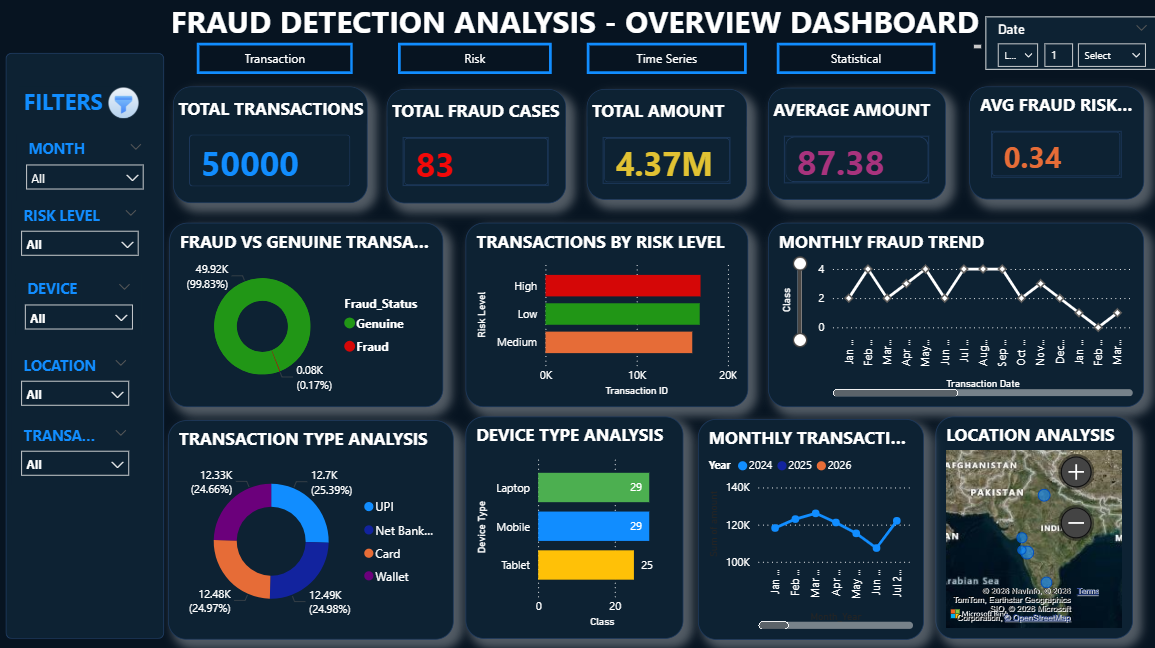

The dashboard page shown, as its layout file describes it:
{"tool":"powerbi","page":{"name":"Page 1","canvas":[1280,720],"ordinal":0},"visuals":[{"type":"cardVisual","title":"TOTAL TRANSACTIONS","fields":{"Data":["enriched_data.Total Transactions"]},"box":[197.9,101.3,213.5,127.9],"z":0},{"type":"cardVisual","title":"TOTAL FRAUD CASES","fields":{"Data":["enriched_data.Fraud Test"]},"box":[431.9,103.8,196.6,125.5],"z":1000},{"type":"cardVisual","title":"TOTAL AMOUNT","fields":{"Data":["enriched_data.Total Amount"]},"box":[651.5,103.8,176.1,121.9],"z":2000},{"type":"cardVisual","title":"AVERAGE AMOUNT","fields":{"Data":["Avg(enriched_data.amount)"]},"box":[850.5,102.5,195.4,123.1],"z":3000},{"type":"donutChart","title":"FRAUD VS GENUINE TRANSACTION","fields":{"Y":["CountNonNull(enriched_data.transaction_id)"],"Category":["enriched_data.Fraud_Status"]},"box":[193,250.9,300.4,202.7],"z":4000},{"type":"clusteredBarChart","title":"TRANSACTIONS BY RISK LEVEL","fields":{"Y":["CountNonNull(enriched_data.transaction_id)"],"Category":["enriched_data.Balanced_Risk_Level"]},"box":[518.8,250.9,310.1,202.7],"z":5000},{"type":"lineChart","title":"MONTHLY FRAUD TREND","fields":{"Y":["Sum(enriched_data.class)"],"Category":["enriched_data.Month_Year"]},"box":[850.5,250.9,412.6,202.7],"z":6000},{"type":"donutChart","title":"TRANSACTION TYPE ANALYSIS","fields":{"Category":["enriched_data.transaction_type"],"Y":["CountNonNull(enriched_data.transaction_id)"]},"box":[192.4,467.5,313.6,240.9],"z":7000},{"type":"clusteredBarChart","title":"DEVICE TYPE ANALYSIS","fields":{"Category":["enriched_data.device_type"],"Y":["Sum(enriched_data.class)"]},"box":[518.8,463.3,239.5,243.7],"z":8000},{"type":"map","title":"LOCATION ANALYSIS","fields":{"Category":["enriched_data.location"],"Size":["Sum(enriched_data.class)"]},"box":[1034.8,463.3,216.7,243.7],"z":9000},{"type":"lineChart","title":"MONTHLY TRANSACTION TREND","fields":{"Y":["Sum(enriched_data.amount)"],"Series":["enriched_data.year"],"Category":["enriched_data.Month_Year"]},"box":[774.5,467.2,248.1,242.6],"z":10000},{"type":"shape","box":[13.7,64.5,174.3,643.6],"z":11000},{"type":"textbox","title":"FILTERS","box":[28.8,101.5,134.5,35.7],"z":12000},{"type":"slicer","fields":{"Values":["enriched_data.month"]},"box":[26.1,153.7,149.6,72.7],"z":13000},{"type":"slicer","fields":{"Values":["enriched_data.Balanced_Risk_Level"]},"box":[20.6,226.4,149.6,81],"z":14000},{"type":"slicer","fields":{"Values":["enriched_data.device_type"]},"box":[24.7,307.4,138.6,67.2],"z":15000},{"type":"slicer","fields":{"Values":["enriched_data.location"]},"box":[20.6,391.1,138.6,72.7],"z":16000},{"type":"slicer","fields":{"Values":["enriched_data.transaction_type"]},"box":[20.6,467.9,138.6,71.4],"z":17000},{"type":"textbox","title":"FRAUD DETECTION ANALYSIS - OVERVIEW DASHBOARD","box":[188,6.9,901.5,57.6],"z":18000},{"type":"image","box":[124.9,101.5,37,35.7],"z":19000},{"type":"cardVisual","title":"AVG FRAUD RISK SCORE","fields":{"Data":["Avg(enriched_data.fraud_risk_score)"]},"box":[1071.3,101.3,191.8,124.3],"z":20000},{"type":"slicer","fields":{"Values":["enriched_data.transaction_date"]},"box":[1089,24.2,191,58.4],"z":21000},{"type":"actionButton","title":"Overview ","box":[223.7,53.5,171.5,34.3],"z":23000},{"type":"actionButton","title":"Overview ","box":[444.6,53.5,168.8,34.3],"z":24000},{"type":"actionButton","title":"Overview ","box":[651.8,53.5,175.6,34.3],"z":25000},{"type":"actionButton","title":"Overview ","box":[860.4,53.5,174.3,34.3],"z":26000}]}

Visuals, with their boxes in screenshot pixels (x1, y1, x2, y2), scaled from the page's 1280x720 canvas onto the 1155x648 screenshot:
"TOTAL TRANSACTIONS" cardVisual: crop(179, 91, 371, 206)
"TOTAL FRAUD CASES" cardVisual: crop(390, 93, 567, 206)
"TOTAL AMOUNT" cardVisual: crop(588, 93, 747, 203)
"AVERAGE AMOUNT" cardVisual: crop(767, 92, 944, 203)
"FRAUD VS GENUINE TRANSACTION" donutChart: crop(174, 226, 445, 408)
"TRANSACTIONS BY RISK LEVEL" clusteredBarChart: crop(468, 226, 748, 408)
"MONTHLY FRAUD TREND" lineChart: crop(767, 226, 1140, 408)
"TRANSACTION TYPE ANALYSIS" donutChart: crop(174, 421, 457, 638)
"DEVICE TYPE ANALYSIS" clusteredBarChart: crop(468, 417, 684, 636)
"LOCATION ANALYSIS" map: crop(934, 417, 1129, 636)
"MONTHLY TRANSACTION TREND" lineChart: crop(699, 420, 923, 639)
shape: crop(12, 58, 170, 637)
"FILTERS" textbox: crop(26, 91, 147, 123)
slicer - enriched_data.month: crop(24, 138, 159, 204)
slicer - enriched_data.Balanced_Risk_Level: crop(19, 204, 154, 277)
slicer - enriched_data.device_type: crop(22, 277, 147, 337)
slicer - enriched_data.location: crop(19, 352, 144, 417)
slicer - enriched_data.transaction_type: crop(19, 421, 144, 485)
"FRAUD DETECTION ANALYSIS - OVERVIEW DASHBOARD" textbox: crop(170, 6, 983, 58)
image: crop(113, 91, 146, 123)
"AVG FRAUD RISK SCORE" cardVisual: crop(967, 91, 1140, 203)
slicer - enriched_data.transaction_date: crop(983, 22, 1154, 74)
"Overview " actionButton: crop(202, 48, 357, 79)
"Overview " actionButton: crop(401, 48, 553, 79)
"Overview " actionButton: crop(588, 48, 747, 79)
"Overview " actionButton: crop(776, 48, 934, 79)
